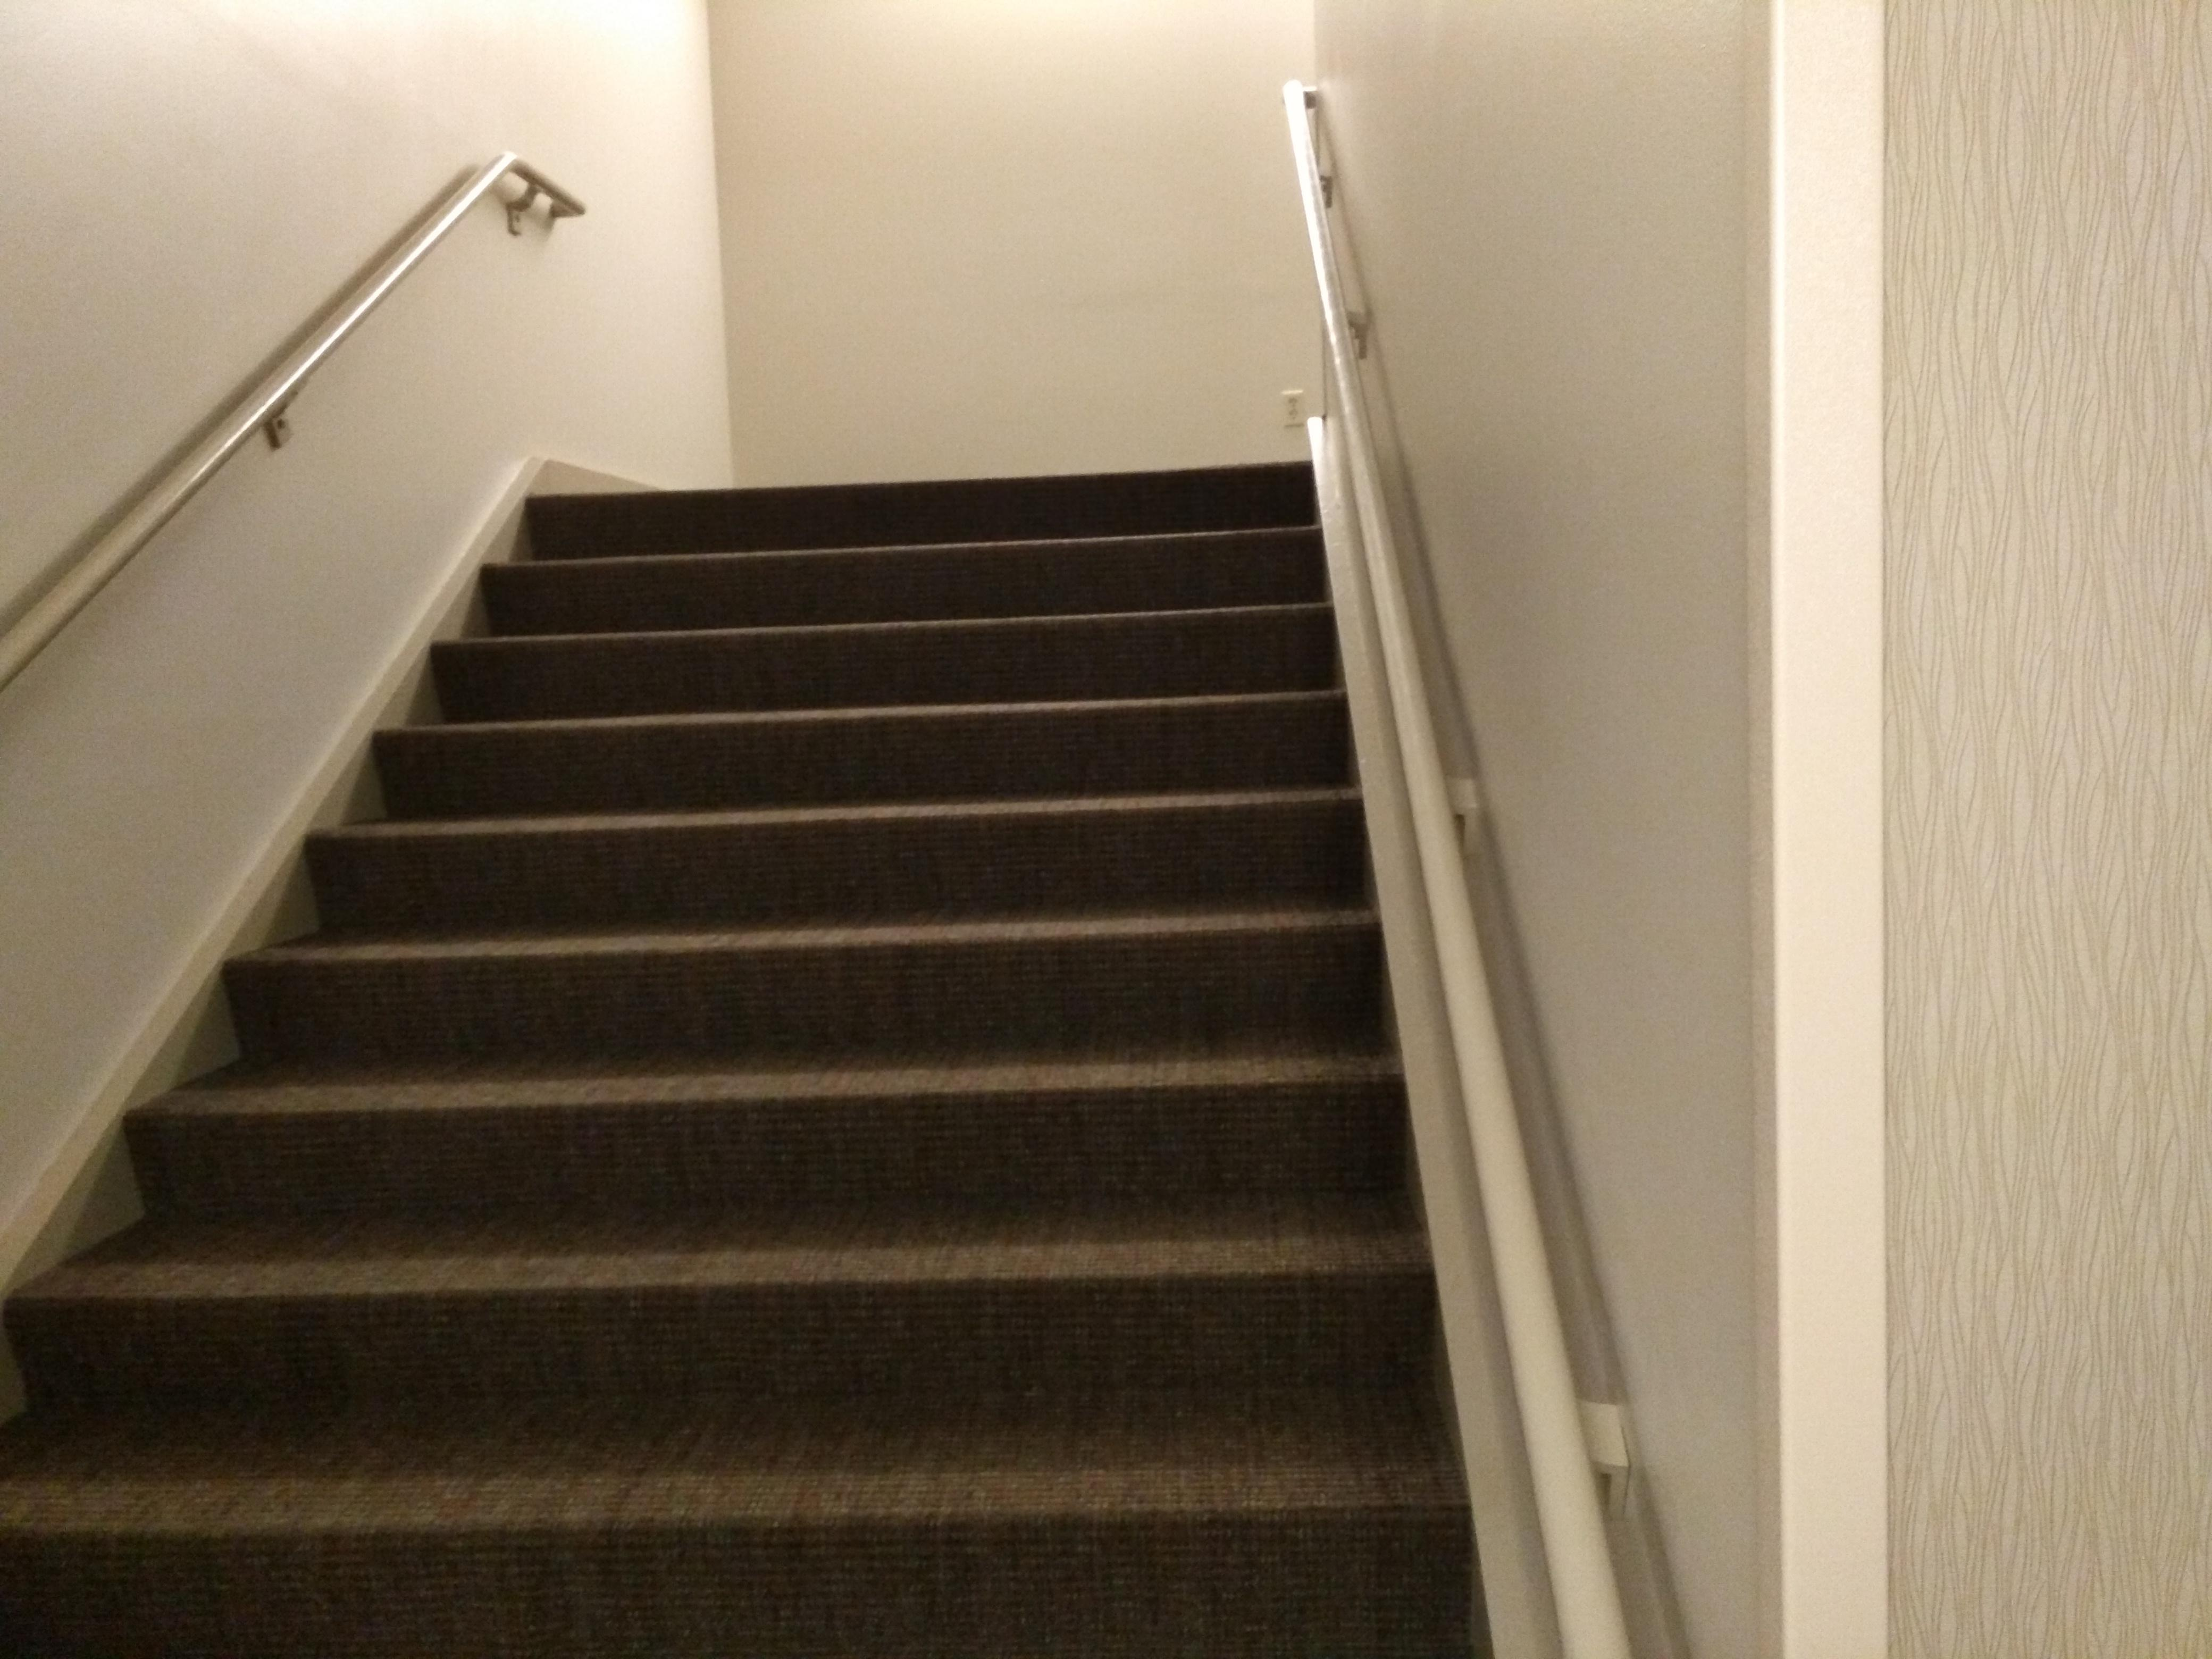stairs_up: (7, 443, 1498, 1601)
